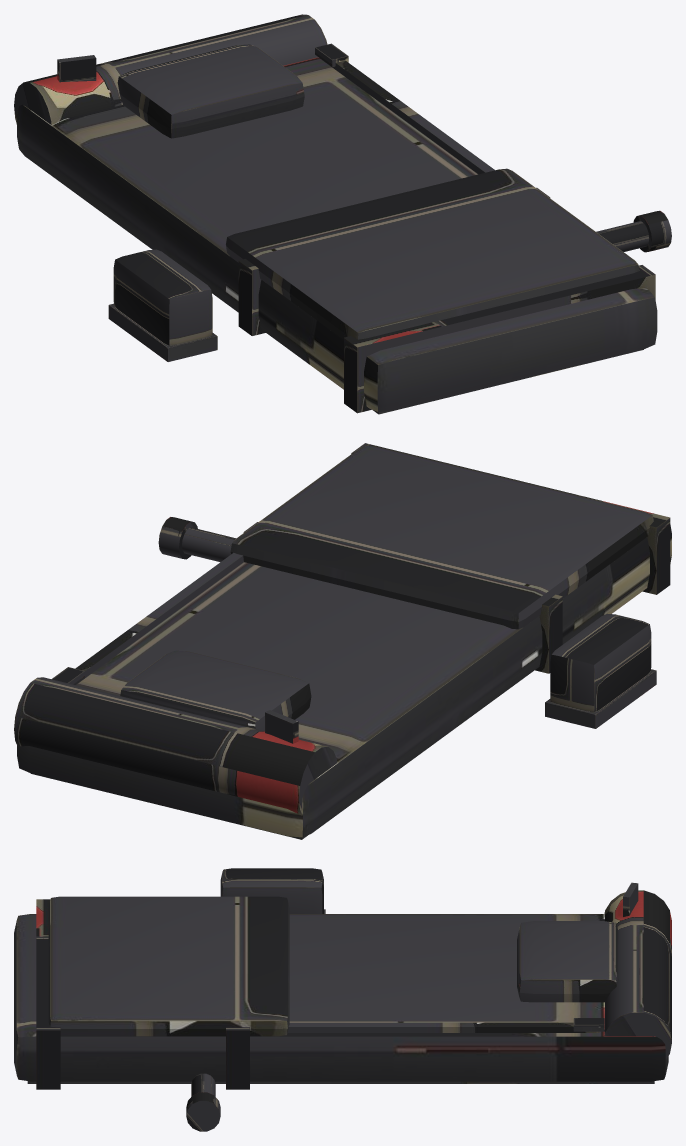
File: DD_sleepingbag.glb
3 views of the same model, one above another, from view 1: azimuth 30°, elevation 25°; view 2: azimuth 150°, elevation 25°; view 3: azimuth 270°, elevation 25° (orthographic). The views are drawn at different scales.
Visible parts, largest first — view 1: DD_sleepingbag; view 2: DD_sleepingbag; view 3: DD_sleepingbag.
Part boxes in pixels (<box>): DD_sleepingbag: <box>14,14,671,414</box>; DD_sleepingbag: <box>14,443,671,839</box>; DD_sleepingbag: <box>14,868,671,1131</box>.
Bounding box in the file's own units: 1.46 × 0.295 × 1.91.
Materials: 1 (1 with a texture image).
